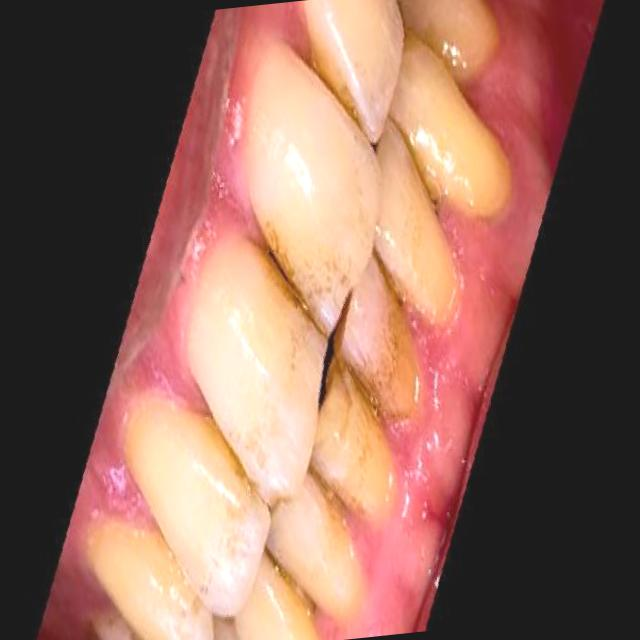calculus: (310, 379, 398, 539), (341, 281, 427, 414)
